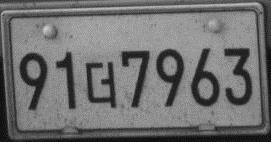1: (50, 50, 83, 110)
3: (223, 46, 253, 106)
6: (190, 46, 220, 106)
7: (119, 49, 153, 110)
9: (153, 48, 186, 107), (17, 51, 48, 112)
더: (84, 60, 118, 110)
